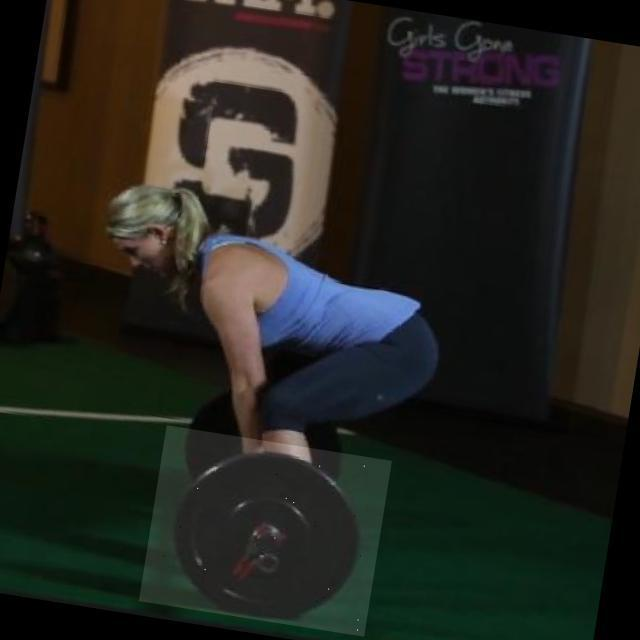barbell: (140, 427, 393, 638)
